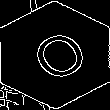O_SE: (19, 22, 91, 88)
